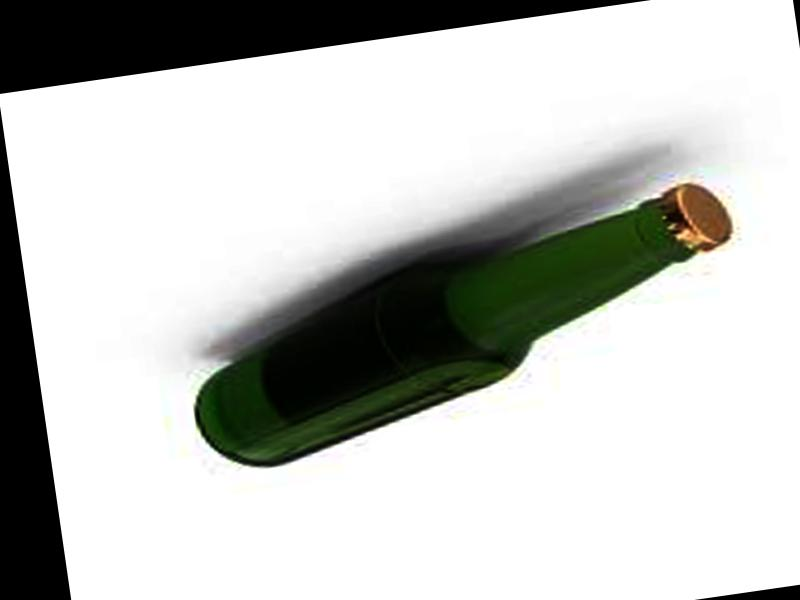Beer: (172, 176, 759, 476)
